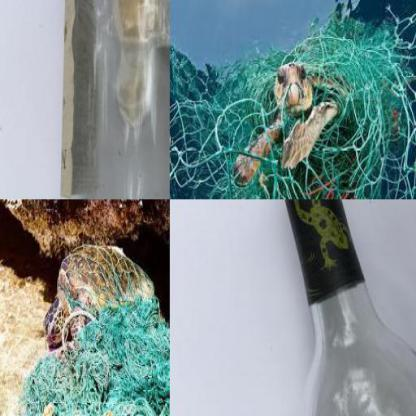Glass: (283, 200, 416, 416)
